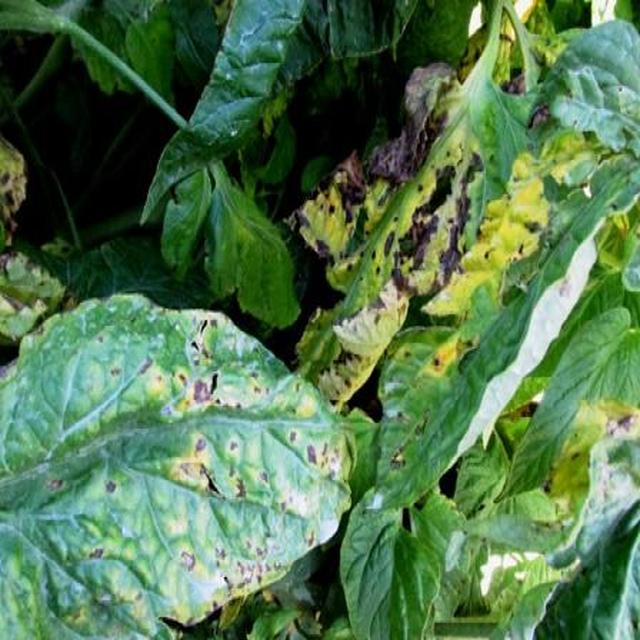Early Blight Leaf: (251, 329, 640, 640)
